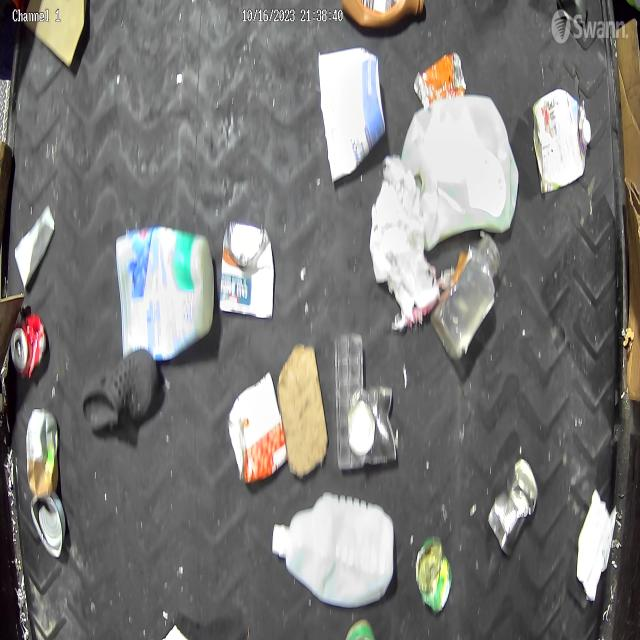can: (226, 369, 289, 486), (531, 87, 592, 196), (218, 218, 276, 320), (486, 456, 540, 558), (347, 384, 396, 461), (415, 533, 454, 615), (413, 51, 467, 110), (26, 406, 60, 495), (10, 310, 48, 381), (29, 492, 67, 560)
milk_jug: (400, 92, 521, 252), (271, 490, 395, 610)
